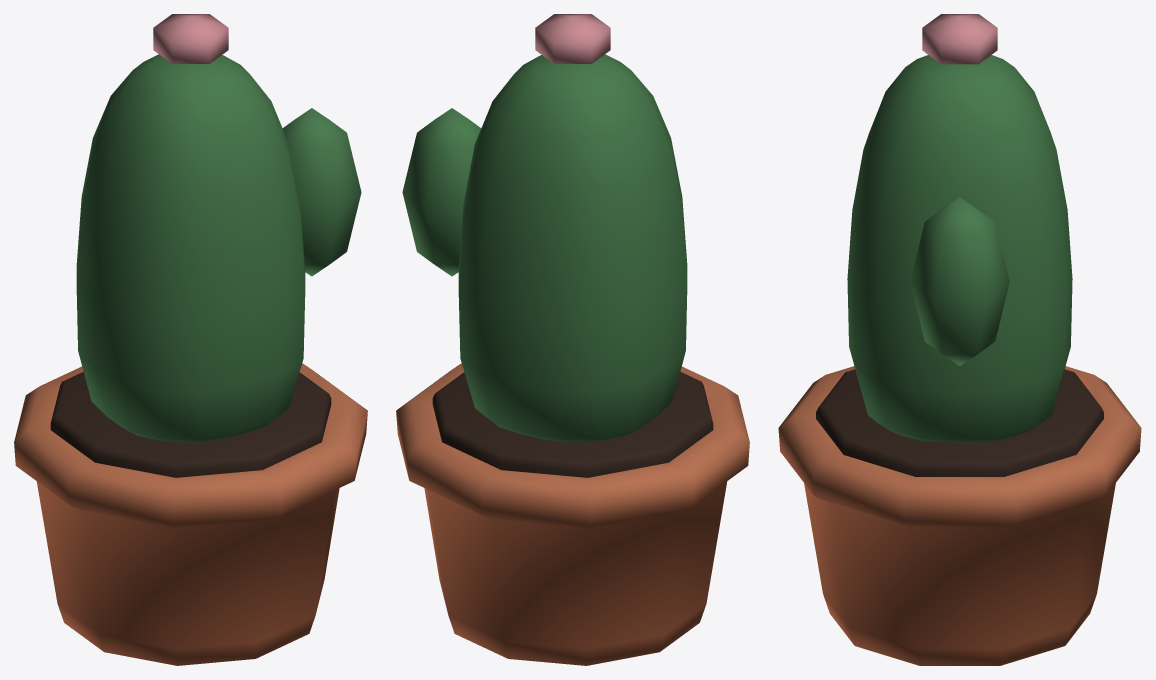
File: cactus.glb
The picture shows the model from 3 angles, left to right: view 1: azimuth 30°, elevation 25°; view 2: azimuth 150°, elevation 25°; view 3: azimuth 270°, elevation 25°; orthographic projection.
Parts seen in each view (by area): view 1: cactus; view 2: cactus; view 3: cactus.
Part boxes in pixels (x1=…): cactus: x1=14, y1=14, x2=367, y2=665; cactus: x1=396, y1=14, x2=749, y2=665; cactus: x1=778, y1=14, x2=1141, y2=665.
Size of the model in its own units: 0.1143 by 0.213 by 0.1166.
